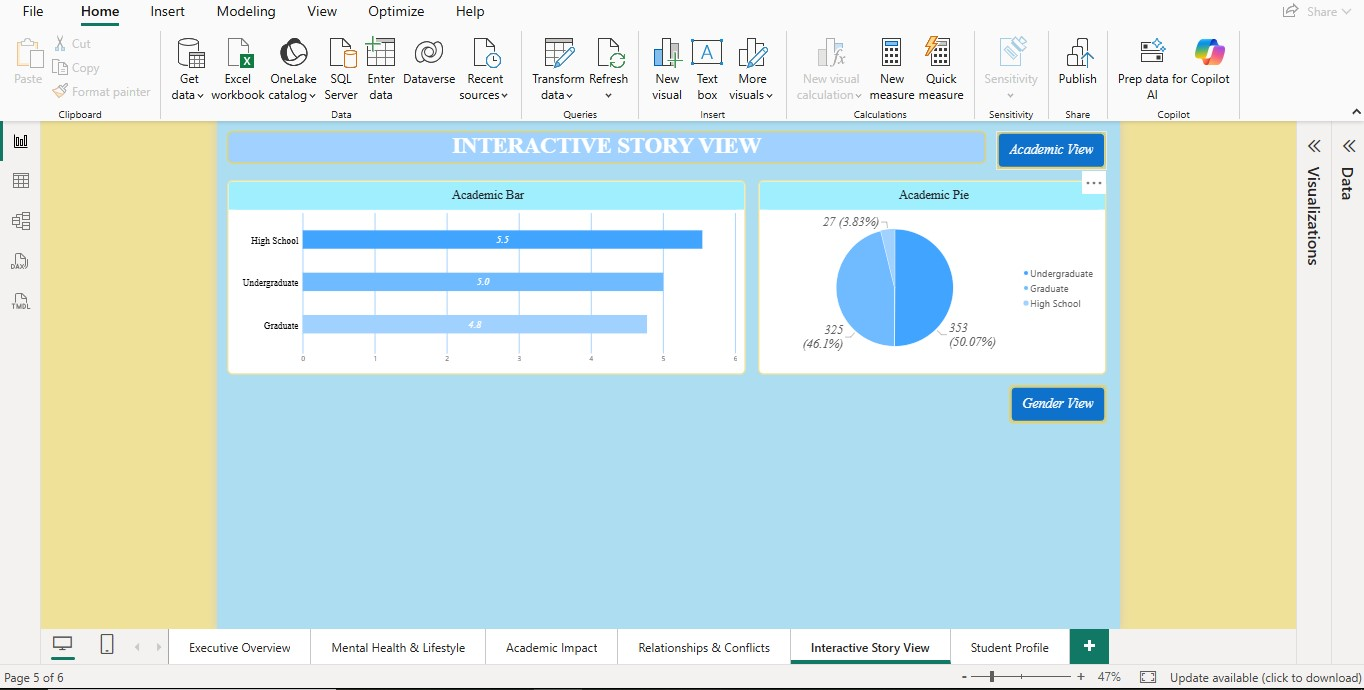

What the dashboard file says about the page in this screenshot:
{"tool":"powerbi","page":{"name":"Interactive Story View","canvas":[1920,1080],"ordinal":4},"visuals":[{"type":"columnChart","title":"Gender Bar","fields":{"Category":["Student_Details.Gender"],"Y":["Student_Details.Avg Usage Hours"]},"box":[32.2,667,1103.4,384.3],"z":0},{"type":"donutChart","title":"Gender Donut","fields":{"Category":["Student_Details.Gender"],"Y":["CountNonNull(Platform_Details.Most_Used_Platform)"]},"box":[1167.9,667,724,384.3],"z":1000},{"type":"actionButton","title":"Gender View","box":[1683.6,560.4,208.3,81.8],"z":4000},{"type":"actionButton","title":"Gender View","box":[1656.3,22.3,235.6,81.8],"z":5000},{"type":"textbox","box":[100,100,300,300],"z":6000},{"type":"textbox","box":[22.3,22.3,1614.2,69.4],"z":7000}]}

Visuals, with their boxes on the page's 1920x1080 design canvas (x1, y1, x2, y2). These are canvas units, not pixel positions in the 1364x690 screenshot, which may show the page scaled, cropped or inside an application window:
"Gender Bar" columnChart: 32:667:1136:1051
"Gender Donut" donutChart: 1168:667:1892:1051
"Gender View" actionButton: 1684:560:1892:642
"Gender View" actionButton: 1656:22:1892:104
textbox: 100:100:400:400
textbox: 22:22:1636:92
